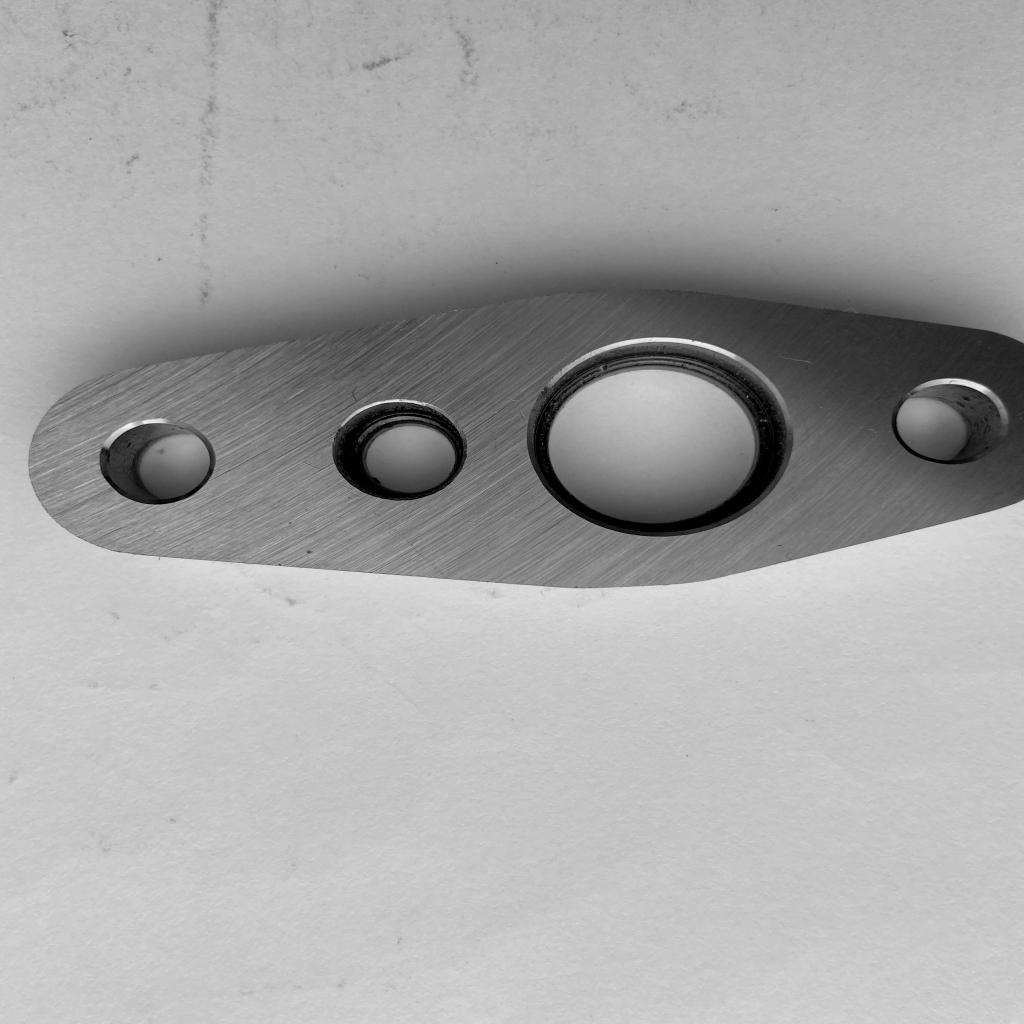chap: (772, 354, 817, 366), (302, 548, 316, 558)
lines: (350, 381, 362, 405)
